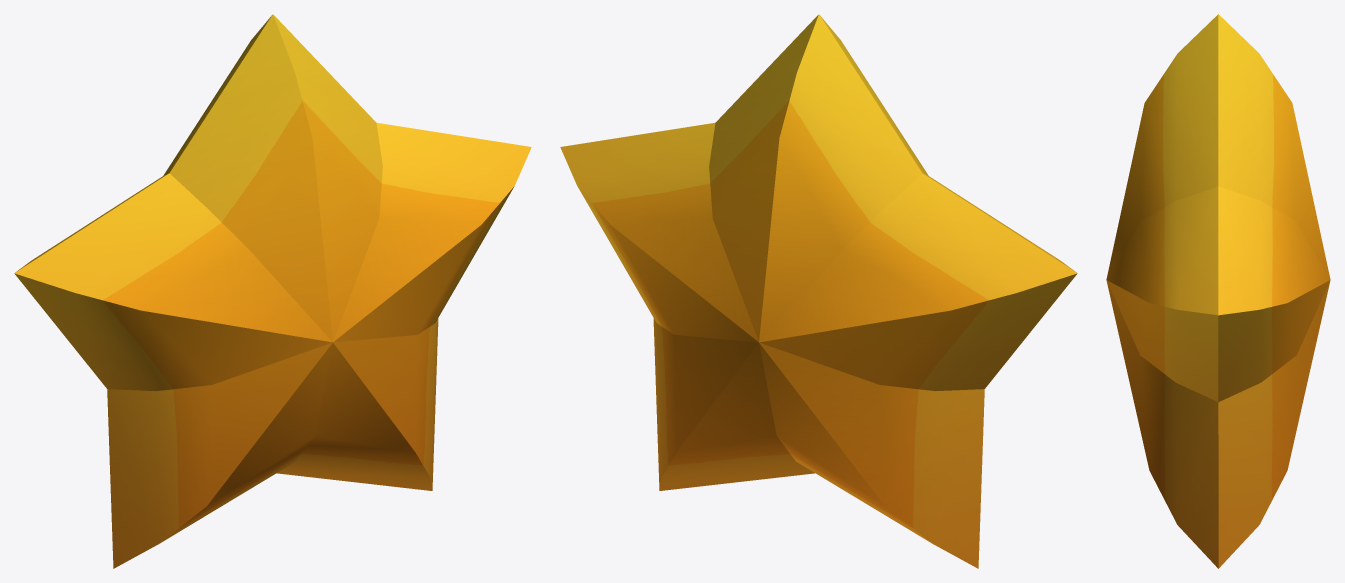
Rendered from Star.FBX.
The picture shows the model from 3 angles, left to right: view 1: azimuth 30°, elevation 25°; view 2: azimuth 150°, elevation 25°; view 3: azimuth 270°, elevation 25°; orthographic projection. The views are drawn at different scales.
Parts seen in each view (by area): view 1: Star; view 2: Star; view 3: Star.
Boxes of the visible parts, x1,y1,x2,y2 form: Star: (14, 14, 531, 568); Star: (560, 14, 1077, 568); Star: (1106, 14, 1330, 568).
Size of the model in its own units: 99.64 by 94.94 by 40.
